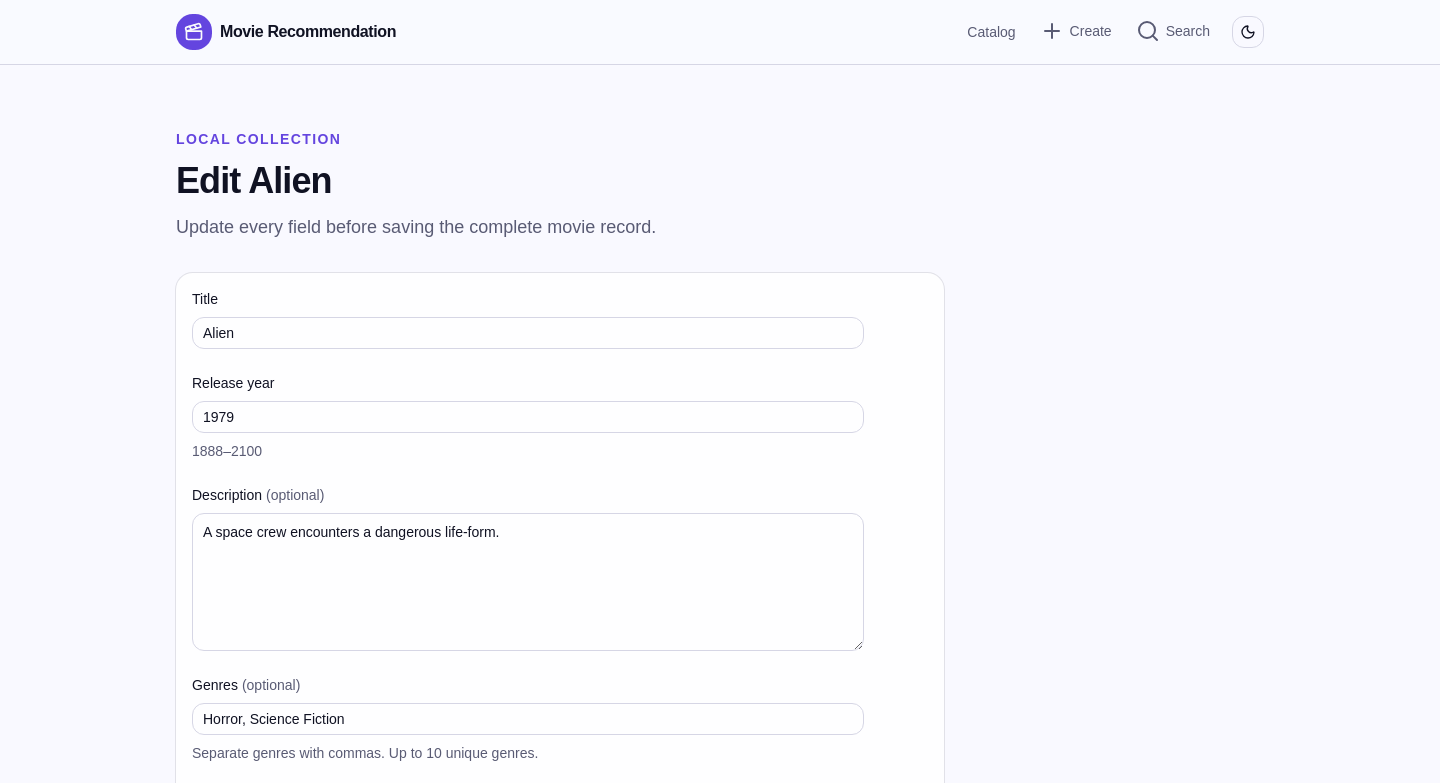
Test: edit movie page › keeps edited values and explains an update conflict
The image size is (1440, 783).
Replace the text in the field labelled "Title" with "Edited locally". click: (528, 333)
box: [192, 317, 864, 349]
(page scrolled)
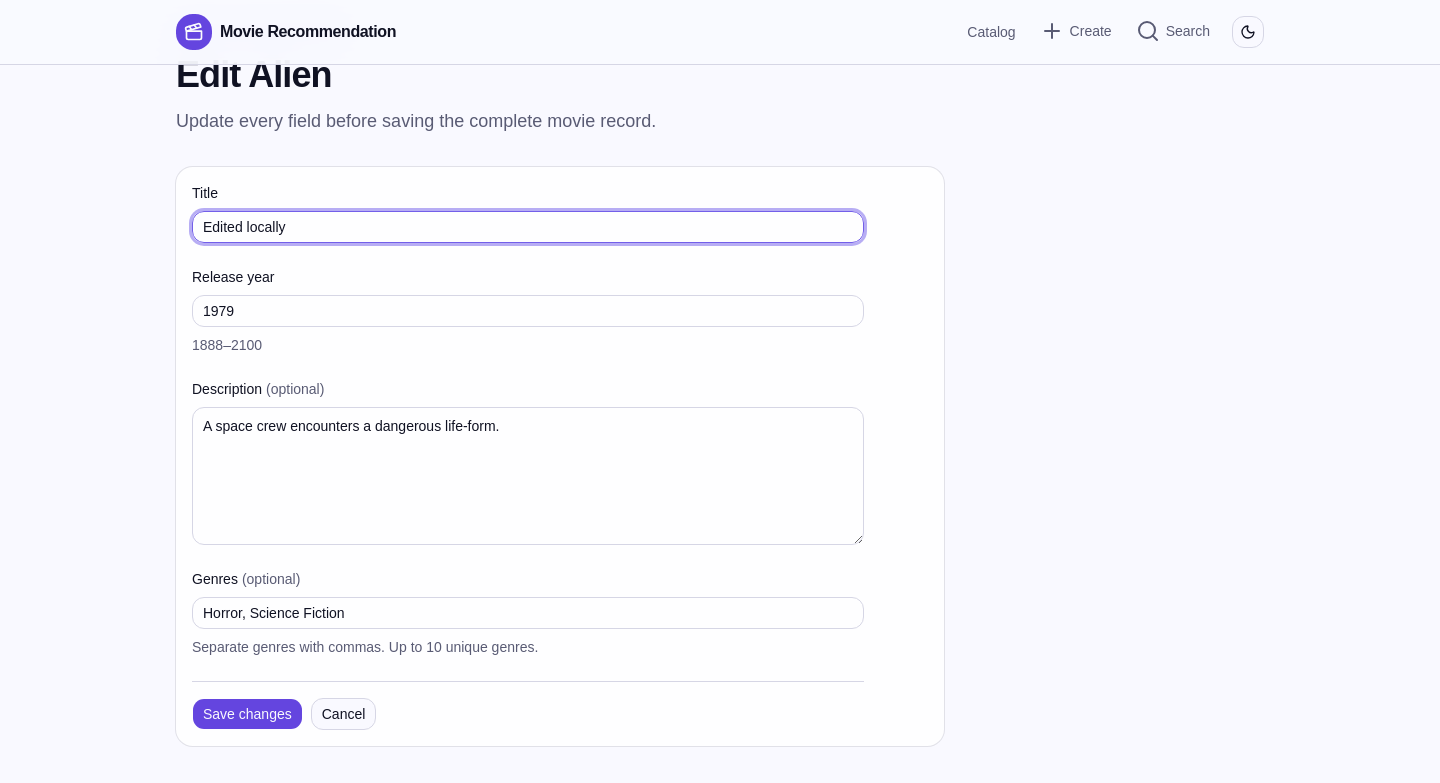
Click the button "Save changes". click: (247, 714)
box: [192, 698, 303, 730]
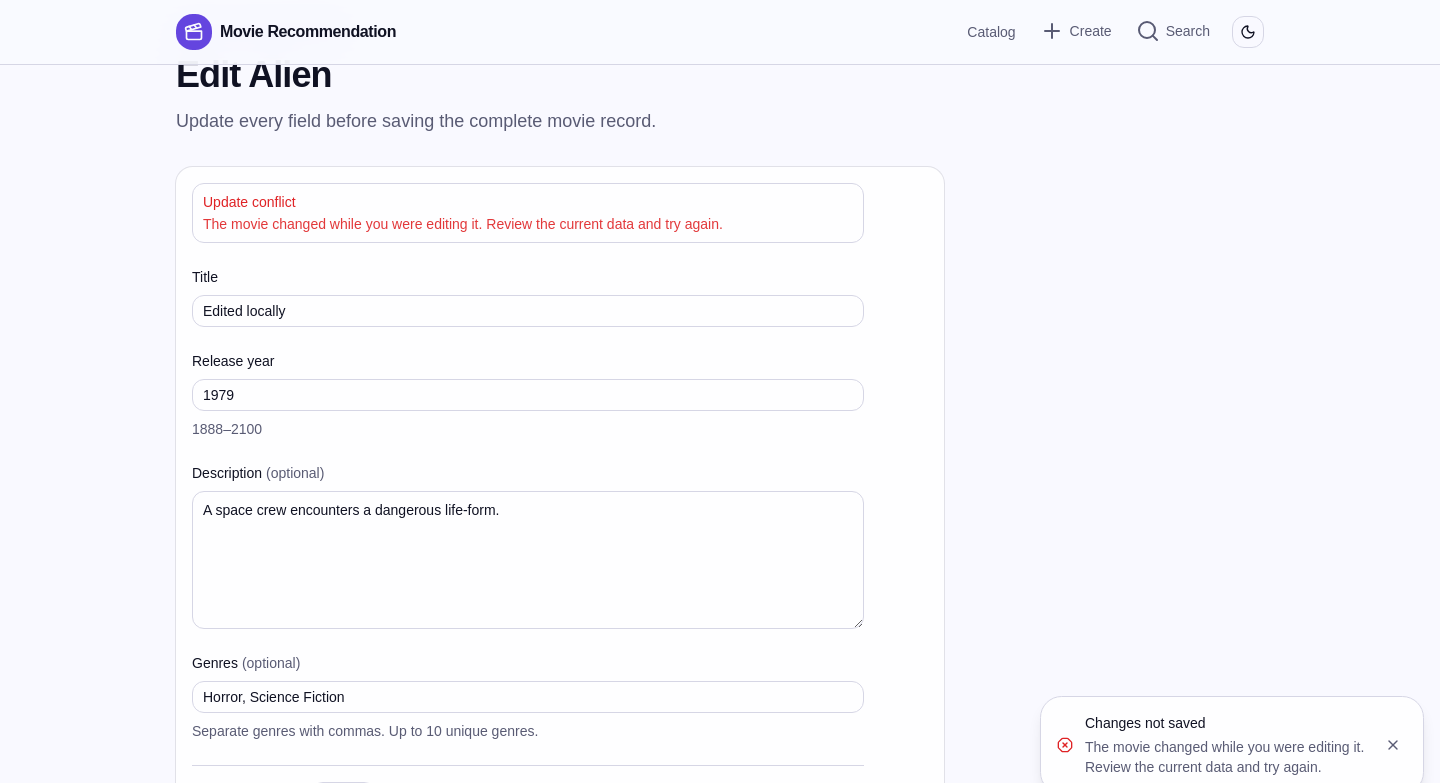
Check: the message shows "Update conflict", box [203, 194, 296, 210]
Check: the heading "Changes not saved" is shown, box [1085, 715, 1206, 731]
